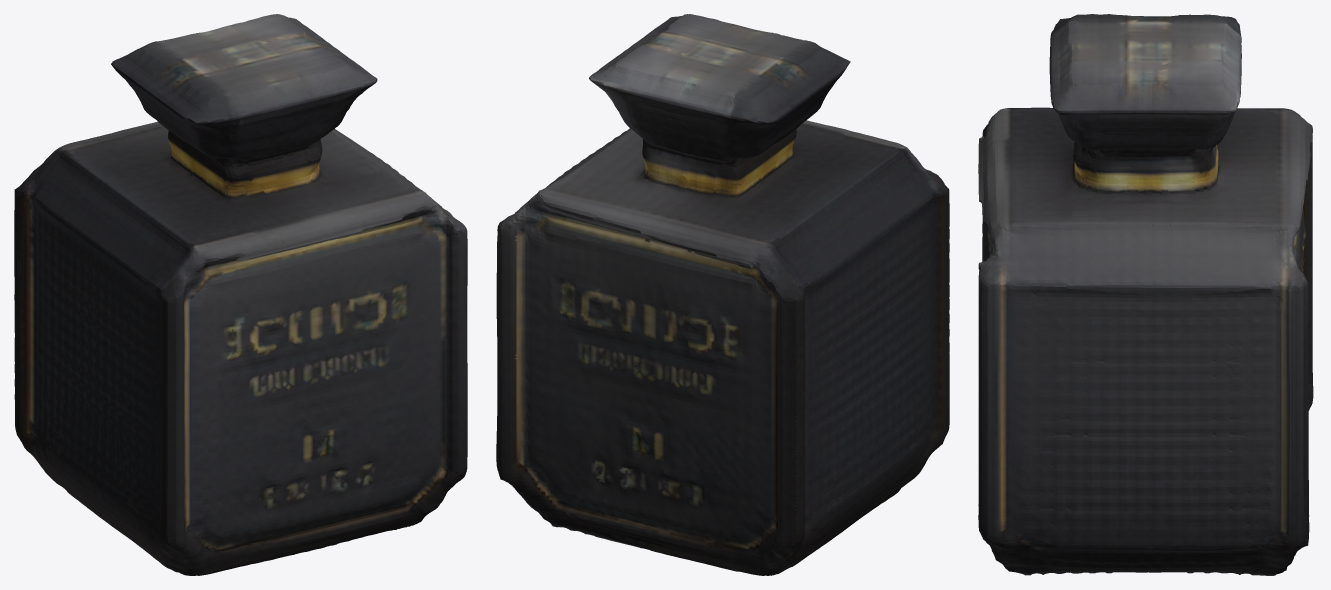
File: product8.glb
The picture shows the model from 3 angles, left to right: view 1: azimuth 30°, elevation 25°; view 2: azimuth 150°, elevation 25°; view 3: azimuth 270°, elevation 25°; orthographic projection. The views are drawn at different scales.
Visible parts, largest first — view 1: world; view 2: world; view 3: world.
Boxes of the visible parts, left/top/right/bottom form: world: left=14, top=14, right=467, bottom=575; world: left=496, top=14, right=949, bottom=575; world: left=978, top=14, right=1313, bottom=575.
Size of the model in its own units: 1.43 by 2 by 1.3.
